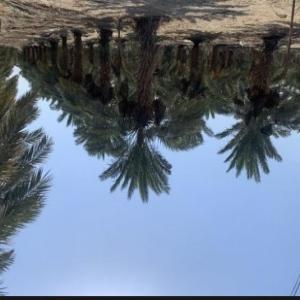palm tree: (0, 39, 53, 298)
